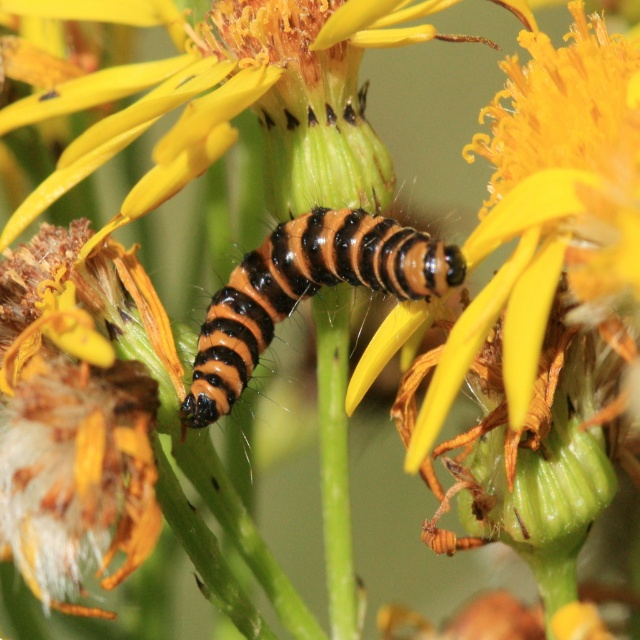Caterpillar: (175, 168, 470, 485)
